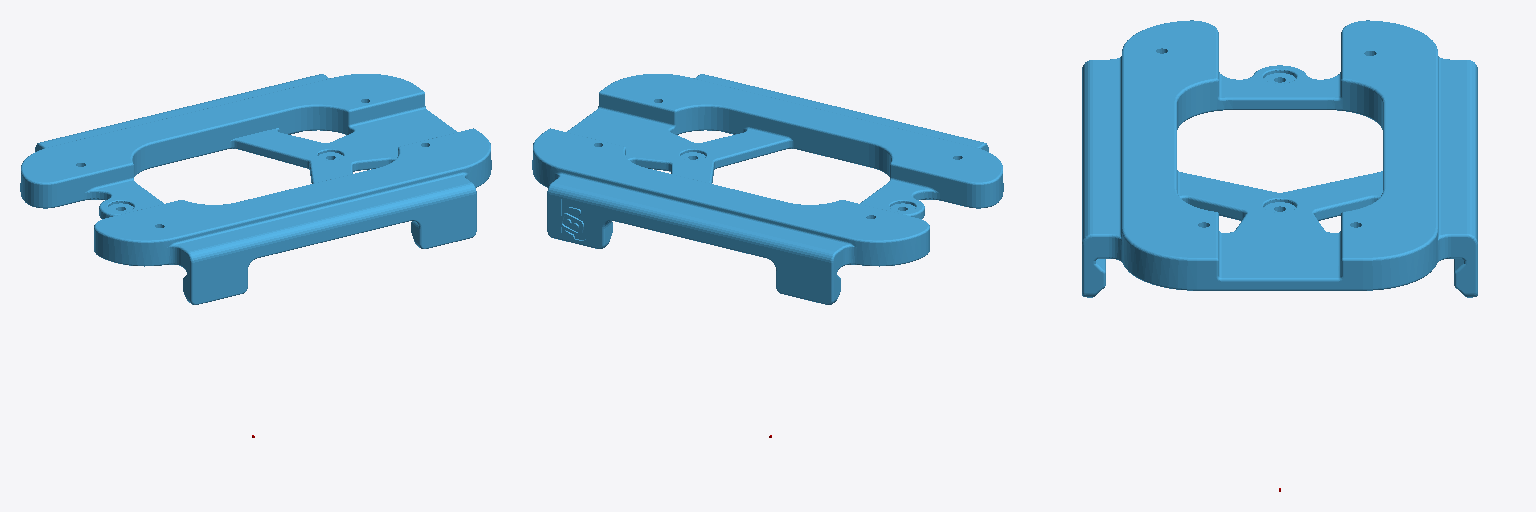
The robot description file, URDF, robot "tita":
<?xml version="1.0" ?>
<!-- =================================================================================== -->
<!-- |    This document was autogenerated by xacro from robot.xacro                    | -->
<!-- |    EDITING THIS FILE BY HAND IS NOT RECOMMENDED                                 | -->
<!-- =================================================================================== -->
<robot name="tita">
  <material name="black">
    <color rgba="0.19607843137254902 0.19607843137254902 0.19607843137254902 1.0"/>
  </material>
  <material name="blue">
    <color rgba="0.0 0.0 0.8 1.0"/>
  </material>
  <material name="green">
    <color rgba="0.0 0.8 0.0 1.0"/>
  </material>
  <material name="grey">
    <color rgba="0.2 0.2 0.2 1.0"/>
  </material>
  <material name="silver">
    <color rgba="0.9137254901960784 0.9137254901960784 0.8470588235294118 1.0"/>
  </material>
  <material name="orange">
    <color rgba="1.0 0.4235294117647059 0.0392156862745098 1.0"/>
  </material>
  <material name="brown">
    <color rgba="0.8705882352941177 0.8117647058823529 0.7647058823529411 1.0"/>
  </material>
  <material name="red">
    <color rgba="0.8 0.0 0.0 1.0"/>
  </material>
  <material name="white">
    <color rgba="1.0 1.0 1.0 1.0"/>
  </material>
  <link name="base_link">
    <inertial>
      <origin rpy="0 0 0" xyz="0.020452 3.5457E-06 0.01871"/>
      <mass value="13.2"/>
      <inertia ixx="0.061855" ixy="-2.6029E-05" ixz="0.00081082" iyy="0.036934" iyz="-1.7269E-05" izz="0.071232"/>
    </inertial>
    <visual>
      <origin rpy="0 0 0" xyz="0 0 0"/>
      <geometry>
        <mesh filename="meshes/base_link.STL"/>
      </geometry>
      <material name="black"/>
    </visual>
    <collision>
      <origin rpy="0 0 0" xyz="0 0 0.017"/>
      <geometry>
        <box size="0.47 0.3 0.19"/>
      </geometry>
    </collision>
  </link>
  <joint name="interface_joint" type="fixed">
    <origin rpy="0 0 0" xyz="0.001325 0 0.1398"/>
    <parent link="base_link"/>
    <child link="interface_link"/>
  </joint>
  <link name="interface_link">
    <visual>
      <origin rpy="0 0 0" xyz="0 0 0"/>
      <geometry>
        <mesh filename="meshes/tita_interface.stl" scale="1 1 1"/>
      </geometry>
    </visual>
    <!--<collision>
            <origin rpy="0 0 0" xyz="0 0 0"/>
            <geometry>
                <box size="${trunk_length} ${trunk_width} ${trunk_height}"/>
            </geometry>
        </collision>
        <inertial>
            <origin rpy="0 0 0" xyz="${trunk_com_x} ${trunk_com_y} ${trunk_com_z}"/>
            <mass value="${trunk_mass}"/>
            <inertia
                ixx="${trunk_ixx}" ixy="${trunk_ixy}" ixz="${trunk_ixz}"
                iyy="${trunk_iyy}" iyz="${trunk_iyz}"
                izz="${trunk_izz}"/>
        </inertial>-->
  </link>
  <link name="spad">
    </link>
  <joint name="spad_joint" type="fixed">
    <origin rpy="2.199 0 1.5708" xyz="0.24052 -0.0019 0.064455"/>
    <parent link="base_link"/>
    <child link="spad"/>
    <axis xyz="0 0 0"/>
  </joint>
  <link name="spad1">
    </link>
  <joint name="spad1_joint" type="fixed">
    <origin rpy="2.632 0 1.5708" xyz="0.21953 -0.0019 -0.030142"/>
    <parent link="base_link"/>
    <child link="spad1"/>
    <axis xyz="0 0 0"/>
  </joint>
  <link name="left_camera">
    </link>
  <joint name="left_camera_joint" type="fixed">
    <origin rpy="1.5708 0 1.5708" xyz="0.23416 0.075 0.04036"/>
    <parent link="base_link"/>
    <child link="left_camera"/>
    <axis xyz="0 0 0"/>
  </joint>
  <link name="ch201">
    </link>
  <joint name="ch201_joint" type="fixed">
    <origin rpy="1.1693 0 1.5708" xyz="0.23782 0 0.018636"/>
    <parent link="base_link"/>
    <child link="ch201"/>
    <axis xyz="0 0 0"/>
  </joint>
  <link name="right_camera"> </link>
  <joint name="right_camera_joint" type="fixed">
    <origin rpy="1.5708 0 1.5708" xyz="0.23416 -0.075001 0.04036"/>
    <parent link="base_link"/>
    <child link="right_camera"/>
    <axis xyz="0 0 0"/>
  </joint>
  <joint name="imu_joint" type="fixed">
    <parent link="base_link"/>
    <child link="imu_link"/>
    <origin rpy="0 0 0" xyz="0 0 0"/>
  </joint>
  <link name="imu_link">
    <inertial>
      <mass value="0.001"/>
      <origin rpy="0 0 0" xyz="0 0 0"/>
      <inertia ixx="0.0001" ixy="0" ixz="0" iyy="0.0001" iyz="0" izz="0.0001"/>
    </inertial>
    <visual>
      <origin rpy="0 0 0" xyz="0 0 0"/>
      <geometry>
        <box size="0.001 0.001 0.001"/>
      </geometry>
      <material name="red"/>
    </visual>
    <collision>
      <origin rpy="0 0 0" xyz="0 0 0"/>
      <geometry>
        <box size=".001 .001 .001"/>
      </geometry>
    </collision>
  </link>
  <link name="left_leg_1">
    <inertial>
      <origin rpy="0 0 0" xyz="0.0016025 5.0253E-05 0.000638"/>
      <mass value="2.064"/>
      <inertia ixx="0.0043044" ixy="-1.3538E-07" ixz="8.054E-05" iyy="0.0029982" iyz="-1.5446E-06" izz="0.0022703"/>
    </inertial>
    <visual>
      <origin rpy="0 0 0" xyz="0 0 0"/>
      <geometry>
        <mesh filename="meshes/left_leg_1.STL"/>
      </geometry>
      <material name="black"/>
    </visual>
  </link>
  <joint name="joint_left_leg_1" type="revolute">
    <origin rpy="1.5708 0 1.5708" xyz="0 0.0895 0"/>
    <parent link="base_link"/>
    <child link="left_leg_1"/>
    <axis xyz="0 0 1"/>
    <limit effort="100" lower="-0.785398" upper="0.785398" velocity="100"/>
  </joint>
  <link name="left_leg_2">
    <inertial>
      <origin rpy="0 0 0" xyz="0.021763 0.0019069 -0.027868"/>
      <mass value="3.0984"/>
      <inertia ixx="0.0029784" ixy="-9.6332E-05" ixz="7.878E-05" iyy="0.0064836" iyz="4.3691E-06" izz="0.0088353"/>
    </inertial>
    <visual>
      <origin rpy="0 0 0" xyz="0 0 0"/>
      <geometry>
        <mesh filename="meshes/left_leg_2.STL"/>
      </geometry>
      <material name="black"/>
    </visual>
  </link>
  <joint name="joint_left_leg_2" type="revolute">
    <origin rpy="-1.5708 0 -1.5708" xyz="0.1426 0 0"/>
    <parent link="left_leg_1"/>
    <child link="left_leg_2"/>
    <axis xyz="0 0 1"/>
    <limit effort="100" lower="-1.919862" upper="3.490659" velocity="100"/>
  </joint>
  <link name="left_leg_3">
    <inertial>
      <origin rpy="0 0 0" xyz="0.095348 0.011698 0.001838"/>
      <mass value="0.57244"/>
      <inertia ixx="0.00030595" ixy="0.00035537" ixz="-0.00011764" iyy="0.0032009" iyz="1.129E-05" izz="0.0034209"/>
    </inertial>
    <visual>
      <origin rpy="0 0 0" xyz="0 0 0"/>
      <geometry>
        <mesh filename="meshes/left_leg_3.STL"/>
      </geometry>
      <material name="black"/>
    </visual>
    <collision>
      <origin rpy="0 0 -0.131" xyz="0.1 0.021 -0.002"/>
      <geometry>
        <box size="0.2 0.07 0.05"/>
      </geometry>
    </collision>
  </link>
  <joint name="joint_left_leg_3" type="revolute">
    <origin rpy="0 0 0" xyz="0.2 0 0"/>
    <parent link="left_leg_2"/>
    <child link="left_leg_3"/>
    <axis xyz="0 0 1"/>
    <limit effort="100" lower="-2.670354" upper="-0.698132" velocity="100"/>
  </joint>
  <link name="left_leg_4">
    <inertial>
      <origin rpy="0 0 0" xyz="-2.267E-06 -1.6471E-06 -0.00095616"/>
      <mass value="1.5094"/>
      <inertia ixx="0.0035466" ixy="6.9816E-06" ixz="-2.3224E-07" iyy="0.0035053" iyz="-1.7712E-08" izz="0.0069049"/>
    </inertial>
    <visual>
      <origin rpy="0 0 0" xyz="0 0 0"/>
      <geometry>
        <mesh filename="meshes/left_leg_4.STL"/>
      </geometry>
      <material name="black"/>
    </visual>
    <collision>
      <origin rpy="0 0 0" xyz="0 0 0"/>
      <geometry>
        <cylinder length="0.034" radius="0.0925"/>
      </geometry>
    </collision>
  </link>
  <joint name="joint_left_leg_4" type="revolute">
    <origin rpy="0 0 0" xyz="0.2 0 0.0514"/>
    <parent link="left_leg_3"/>
    <child link="left_leg_4"/>
    <axis xyz="0 0 1"/>
    <limit effort="100" lower="-6.283185e4" upper="6.283185e4" velocity="100"/>
  </joint>
  <link name="right_leg_1">
    <inertial>
      <origin rpy="0 0 0" xyz="-0.0016025 5.0253E-05 0.00063801"/>
      <mass value="2.064"/>
      <inertia ixx="0.0043044" ixy="1.3538E-07" ixz="-8.054E-05" iyy="0.0029982" iyz="-1.5359E-06" izz="0.0022703"/>
    </inertial>
    <visual>
      <origin rpy="0 0 0" xyz="0 0 0"/>
      <geometry>
        <mesh filename="meshes/right_leg_1.STL"/>
      </geometry>
      <material name="black"/>
    </visual>
  </link>
  <joint name="joint_right_leg_1" type="revolute">
    <origin rpy="1.5708 0 1.5708" xyz="0 -0.0895 0"/>
    <parent link="base_link"/>
    <child link="right_leg_1"/>
    <axis xyz="0 0 1"/>
    <limit effort="100" lower="-0.785398" upper="0.785398" velocity="100"/>
  </joint>
  <link name="right_leg_2">
    <inertial>
      <origin rpy="0 0 0" xyz="0.021763 0.0019065 0.027873"/>
      <mass value="3.0987"/>
      <inertia ixx="0.0029784" ixy="-9.6347E-05" ixz="-7.8776E-05" iyy="0.0064836" iyz="-4.3711E-06" izz="0.0088353"/>
    </inertial>
    <visual>
      <origin rpy="0 0 0" xyz="0 0 0"/>
      <geometry>
        <mesh filename="meshes/right_leg_2.STL"/>
      </geometry>
      <material name="black"/>
    </visual>
  </link>
  <joint name="joint_right_leg_2" type="revolute">
    <origin rpy="-1.5708 0 -1.5708" xyz="-0.1426 0 0"/>
    <parent link="right_leg_1"/>
    <child link="right_leg_2"/>
    <axis xyz="0 0 1"/>
    <limit effort="100" lower="-1.919862" upper="3.490659" velocity="100"/>
  </joint>
  <link name="right_leg_3">
    <inertial>
      <origin rpy="0 0 0" xyz="0.095348 0.011698 -0.001838"/>
      <mass value="0.57244"/>
      <inertia ixx="0.00030595" ixy="0.00035537" ixz="0.00011764" iyy="0.0032009" iyz="-1.129E-05" izz="0.0034209"/>
    </inertial>
    <visual>
      <origin rpy="0 0 0" xyz="0 0 0"/>
      <geometry>
        <mesh filename="meshes/right_leg_3.STL"/>
      </geometry>
      <material name="black"/>
    </visual>
    <collision>
      <origin rpy="0 0 -0.131" xyz="0.1 0.021 -0.002"/>
      <geometry>
        <box size="0.2 0.07 0.05"/>
      </geometry>
    </collision>
  </link>
  <joint name="joint_right_leg_3" type="revolute">
    <origin rpy="0 0 0" xyz="0.2 0 0"/>
    <parent link="right_leg_2"/>
    <child link="right_leg_3"/>
    <axis xyz="0 0 1"/>
    <limit effort="100" lower="-2.670354" upper="-0.698132" velocity="100"/>
  </joint>
  <link name="right_leg_4">
    <inertial>
      <origin rpy="0 0 0" xyz="-2.3798E-06 -1.5854E-06 0.00095595"/>
      <mass value="1.5094"/>
      <inertia ixx="0.0035465" ixy="7.0548E-06" ixz="2.3146E-07" iyy="0.0035052" iyz="1.9287E-08" izz="0.0069047"/>
    </inertial>
    <visual>
      <origin rpy="0 0 0" xyz="0 0 0"/>
      <geometry>
        <mesh filename="meshes/right_leg_4.STL"/>
      </geometry>
      <material name="black"/>
    </visual>
    <collision>
      <origin rpy="0 0 0" xyz="0 0 0"/>
      <geometry>
        <cylinder length="0.034" radius="0.0925"/>
      </geometry>
    </collision>
  </link>
  <joint name="joint_right_leg_4" type="revolute">
    <origin rpy="0 0 0" xyz="0.2 0 -0.0514"/>
    <parent link="right_leg_3"/>
    <child link="right_leg_4"/>
    <axis xyz="0 0 1"/>
    <limit effort="100" lower="-6.283185e4" upper="6.283185e4" velocity="100"/>
  </joint>
</robot>

--- Render facts (derived) ---
Views: 3 orthographic renders of the robot side by side, from view 1: azimuth 30°, elevation 25°; view 2: azimuth 150°, elevation 25°; view 3: azimuth 270°, elevation 25°.
Model tita with 16 links and 15 joints (8 revolute, 7 fixed), rooted at base_link, posed all joints at 0 but 2 set to mid-range because 0 is outside their limits (joint_left_leg_3 = -1.68, joint_right_leg_3 = -1.68).
Visible links, largest first — view 1: interface_link; view 2: interface_link; view 3: interface_link.
Boxes of the visible links, x1,y1,x2,y2 form: interface_link: (20, 74, 491, 304); interface_link: (532, 74, 1003, 304); interface_link: (1082, 20, 1477, 297).
Bounding box of the posed robot: 0.2038 × 0.1424 × 0.1403 m (x, y, z).
1 mesh visuals loaded from 10 distinct referenced files (1 binary STL); not drawn: 9 (reference not matched to a file when rendering).